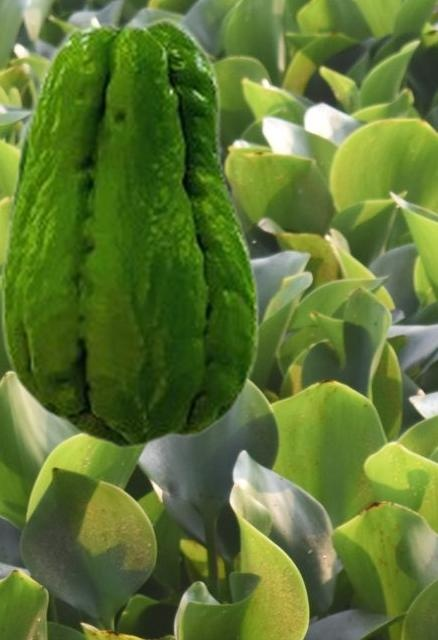sayote: (0, 16, 259, 449)
